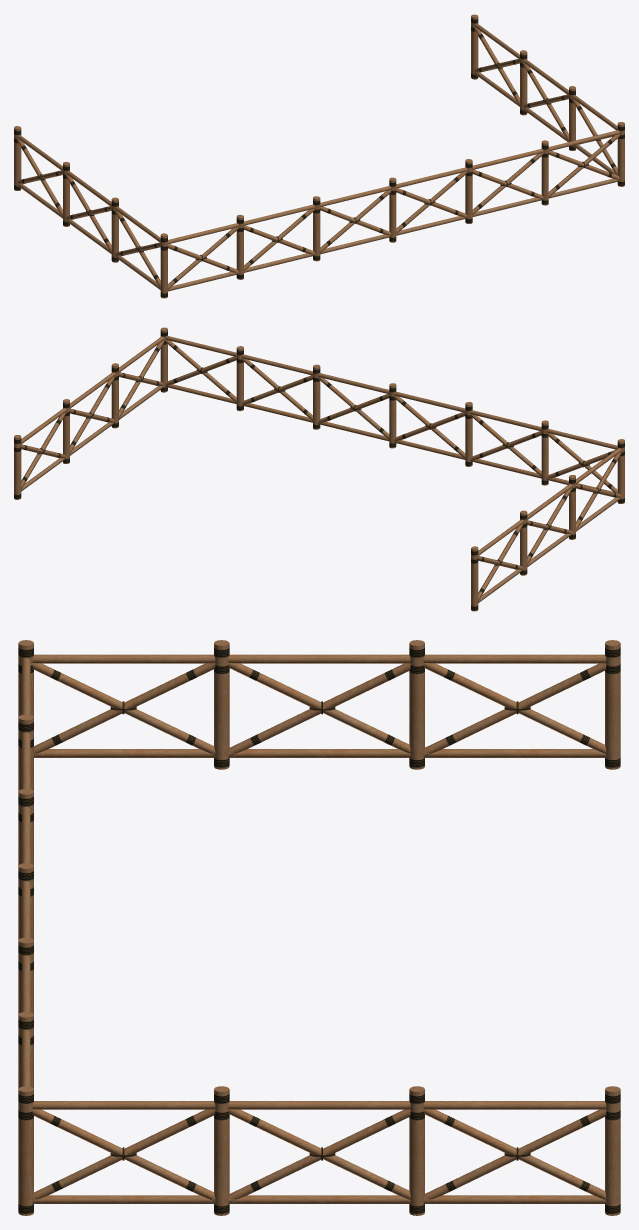
The model's file is fence.obj.
3 views of the same model, one above another, from view 1: azimuth 30°, elevation 25°; view 2: azimuth 150°, elevation 25°; view 3: azimuth 270°, elevation 25° (orthographic). The views are drawn at different scales.
Parts seen in each view (by area): view 1: Mesh6 Group_49_1 Woodenhandrailv5_1 Group1 Model, Mesh64 Group_49_14 Woodenhandrailv5_4 Group1 Model, Mesh26 Group_49_6 Woodenhandrailv5_2 Group1 Model, Mesh28 Group_49_8 Woodenhandrailv5_2 Group1 Model, Mesh27 Group_49_7 Woodenhandrailv5_2 Group1 Model, Mesh65 Group_49_15 Woodenhandrailv5_4 Group1 Model, Mesh25 Group_49_5 Woodenhandrailv5_2 Group1 Model, Mesh7 Group_49_2 Woodenhandrailv5_1 Group1 Model, Mesh47 Group_49_12 Woodenhandrailv5_3 Group1 Model, Mesh46 Group_49_11 Woodenhandrailv5_3 Group1 Model, Mesh9 Group_49_4 Woodenhandrailv5_1 Group1 Model, Mesh23 Group20 Group_222_4 Woodenhandrailv5_2 Group1 Model (+11 smaller); view 2: Mesh9 Group_49_4 Woodenhandrailv5_1 Group1 Model, Mesh47 Group_49_12 Woodenhandrailv5_3 Group1 Model, Mesh65 Group_49_15 Woodenhandrailv5_4 Group1 Model, Mesh64 Group_49_14 Woodenhandrailv5_4 Group1 Model, Mesh28 Group_49_8 Woodenhandrailv5_2 Group1 Model, Mesh26 Group_49_6 Woodenhandrailv5_2 Group1 Model, Mesh27 Group_49_7 Woodenhandrailv5_2 Group1 Model, Mesh8 Group_49_3 Woodenhandrailv5_1 Group1 Model, Mesh45 Group_49_10 Woodenhandrailv5_3 Group1 Model, Mesh6 Group_49_1 Woodenhandrailv5_1 Group1 Model, Mesh61 Group50 Group_222_10 Woodenhandrailv5_4 Group1 Model, Mesh25 Group_49_5 Woodenhandrailv5_2 Group1 Model (+12 smaller); view 3: Mesh9 Group_49_4 Woodenhandrailv5_1 Group1 Model, Mesh25 Group_49_5 Woodenhandrailv5_2 Group1 Model, Mesh47 Group_49_12 Woodenhandrailv5_3 Group1 Model, Mesh7 Group_49_2 Woodenhandrailv5_1 Group1 Model, Mesh45 Group_49_10 Woodenhandrailv5_3 Group1 Model, Mesh8 Group_49_3 Woodenhandrailv5_1 Group1 Model, Mesh46 Group_49_11 Woodenhandrailv5_3 Group1 Model, Mesh16 Group13 Group_222_3 Woodenhandrailv5_1 Group1 Model, Mesh11 Group8 Group_222_2 Woodenhandrailv5_1 Group1 Model, Mesh49 Group38 Group_222_8 Woodenhandrailv5_3 Group1 Model, Mesh40 Group33 Group_222_7 Woodenhandrailv5_3 Group1 Model, Mesh54 Group43 Group_222_9 Woodenhandrailv5_3 Group1 Model (+19 smaller).
Boxes of the visible parts, x1=… form: Mesh6 Group_49_1 Woodenhandrailv5_1 Group1 Model: x1=160, y1=233, x2=167, y2=298; Mesh64 Group_49_14 Woodenhandrailv5_4 Group1 Model: x1=313, y1=196, x2=320, y2=261; Mesh26 Group_49_6 Woodenhandrailv5_2 Group1 Model: x1=541, y1=140, x2=548, y2=205; Mesh28 Group_49_8 Woodenhandrailv5_2 Group1 Model: x1=389, y1=177, x2=396, y2=242; Mesh27 Group_49_7 Woodenhandrailv5_2 Group1 Model: x1=465, y1=159, x2=472, y2=223; Mesh65 Group_49_15 Woodenhandrailv5_4 Group1 Model: x1=236, y1=214, x2=243, y2=279; Mesh25 Group_49_5 Woodenhandrailv5_2 Group1 Model: x1=617, y1=122, x2=624, y2=186; Mesh7 Group_49_2 Woodenhandrailv5_1 Group1 Model: x1=111, y1=197, x2=118, y2=262; Mesh47 Group_49_12 Woodenhandrailv5_3 Group1 Model: x1=471, y1=14, x2=478, y2=79; Mesh46 Group_49_11 Woodenhandrailv5_3 Group1 Model: x1=520, y1=50, x2=527, y2=115; Mesh9 Group_49_4 Woodenhandrailv5_1 Group1 Model: x1=14, y1=126, x2=21, y2=190; Mesh23 Group20 Group_222_4 Woodenhandrailv5_2 Group1 Model: x1=548, y1=134, x2=619, y2=197; Mesh9 Group_49_4 Woodenhandrailv5_1 Group1 Model: x1=471, y1=546, x2=478, y2=611; Mesh47 Group_49_12 Woodenhandrailv5_3 Group1 Model: x1=14, y1=435, x2=21, y2=499; Mesh65 Group_49_15 Woodenhandrailv5_4 Group1 Model: x1=541, y1=420, x2=548, y2=485; Mesh64 Group_49_14 Woodenhandrailv5_4 Group1 Model: x1=465, y1=402, x2=472, y2=466; Mesh28 Group_49_8 Woodenhandrailv5_2 Group1 Model: x1=389, y1=383, x2=396, y2=448; Mesh26 Group_49_6 Woodenhandrailv5_2 Group1 Model: x1=236, y1=346, x2=243, y2=411; Mesh27 Group_49_7 Woodenhandrailv5_2 Group1 Model: x1=313, y1=364, x2=320, y2=429; Mesh8 Group_49_3 Woodenhandrailv5_1 Group1 Model: x1=520, y1=510, x2=527, y2=575; Mesh45 Group_49_10 Woodenhandrailv5_3 Group1 Model: x1=111, y1=363, x2=118, y2=428; Mesh6 Group_49_1 Woodenhandrailv5_1 Group1 Model: x1=617, y1=439, x2=624, y2=503; Mesh61 Group50 Group_222_10 Woodenhandrailv5_4 Group1 Model: x1=394, y1=395, x2=465, y2=458; Mesh25 Group_49_5 Woodenhandrailv5_2 Group1 Model: x1=160, y1=327, x2=167, y2=392; Mesh9 Group_49_4 Woodenhandrailv5_1 Group1 Model: x1=605, y1=640, x2=620, y2=769; Mesh25 Group_49_5 Woodenhandrailv5_2 Group1 Model: x1=18, y1=1086, x2=33, y2=1215; Mesh47 Group_49_12 Woodenhandrailv5_3 Group1 Model: x1=605, y1=1086, x2=620, y2=1215; Mesh7 Group_49_2 Woodenhandrailv5_1 Group1 Model: x1=214, y1=640, x2=229, y2=769; Mesh45 Group_49_10 Woodenhandrailv5_3 Group1 Model: x1=214, y1=1086, x2=229, y2=1215; Mesh8 Group_49_3 Woodenhandrailv5_1 Group1 Model: x1=409, y1=640, x2=424, y2=769; Mesh46 Group_49_11 Woodenhandrailv5_3 Group1 Model: x1=409, y1=1086, x2=424, y2=1215; Mesh16 Group13 Group_222_3 Woodenhandrailv5_1 Group1 Model: x1=423, y1=663, x2=606, y2=756; Mesh11 Group8 Group_222_2 Woodenhandrailv5_1 Group1 Model: x1=228, y1=663, x2=410, y2=757; Mesh49 Group38 Group_222_8 Woodenhandrailv5_3 Group1 Model: x1=228, y1=1109, x2=410, y2=1202; Mesh40 Group33 Group_222_7 Woodenhandrailv5_3 Group1 Model: x1=32, y1=1109, x2=215, y2=1201; Mesh54 Group43 Group_222_9 Woodenhandrailv5_3 Group1 Model: x1=423, y1=1109, x2=606, y2=1202.
Size of the model in its own units: 324 by 41.34 by 182.
